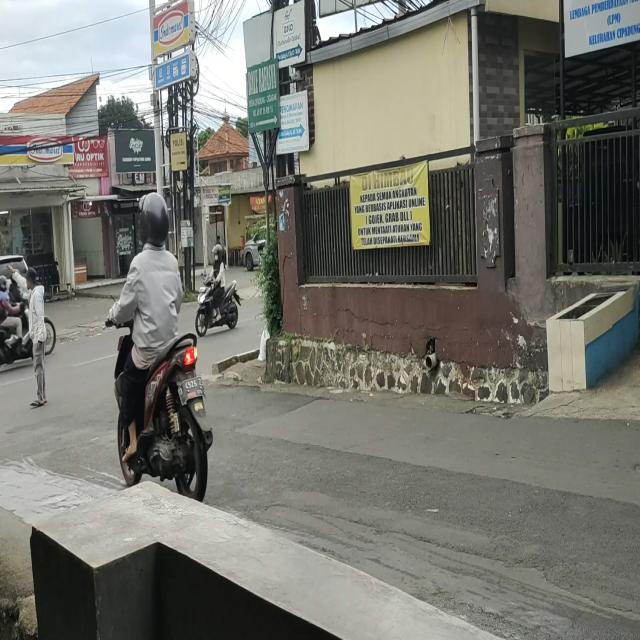helmet: (140, 194, 169, 246), (213, 242, 222, 266)
